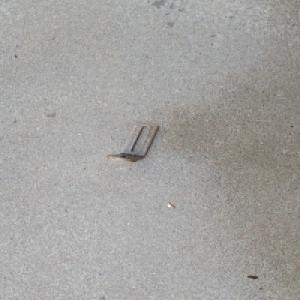MetalPart: (105, 121, 159, 162)
